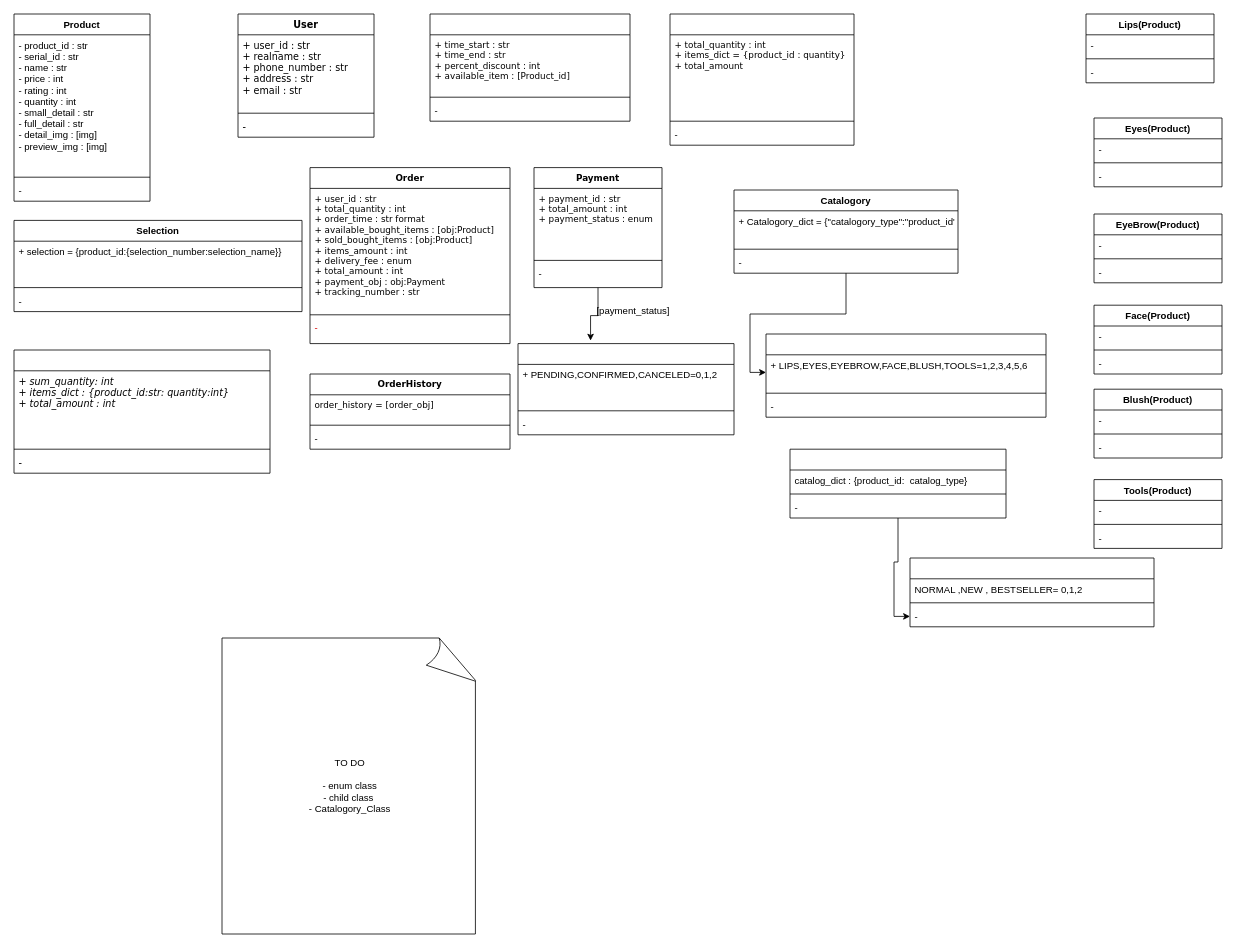
This 1236x948 diagram has some shape labels left out. Here are the shapes that lost their labels. From the top down, the box of each, then its label:
(429, 13, 630, 121): Promotion
(669, 13, 854, 145): Favorite
(517, 343, 734, 435): paymentStatus(enum)
(765, 333, 1046, 417): CatalogoryType(enums)
(13, 349, 270, 473): Cart
(789, 448, 1006, 518): ProductCatalog
(909, 557, 1154, 627): CatalogType(enum)
